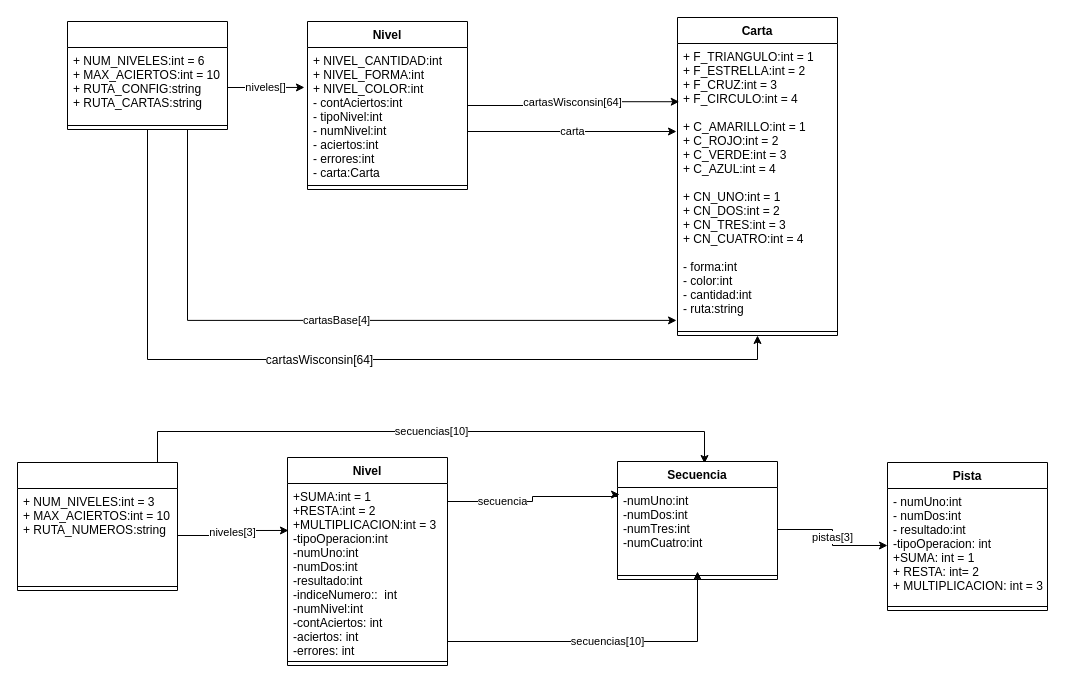
This 1065x683 diagram has some shape labels left out. Each missing label, with the box of its shape:
JuegoCartas: (66, 20, 228, 130)
JuegoNumeros: (16, 462, 178, 590)
